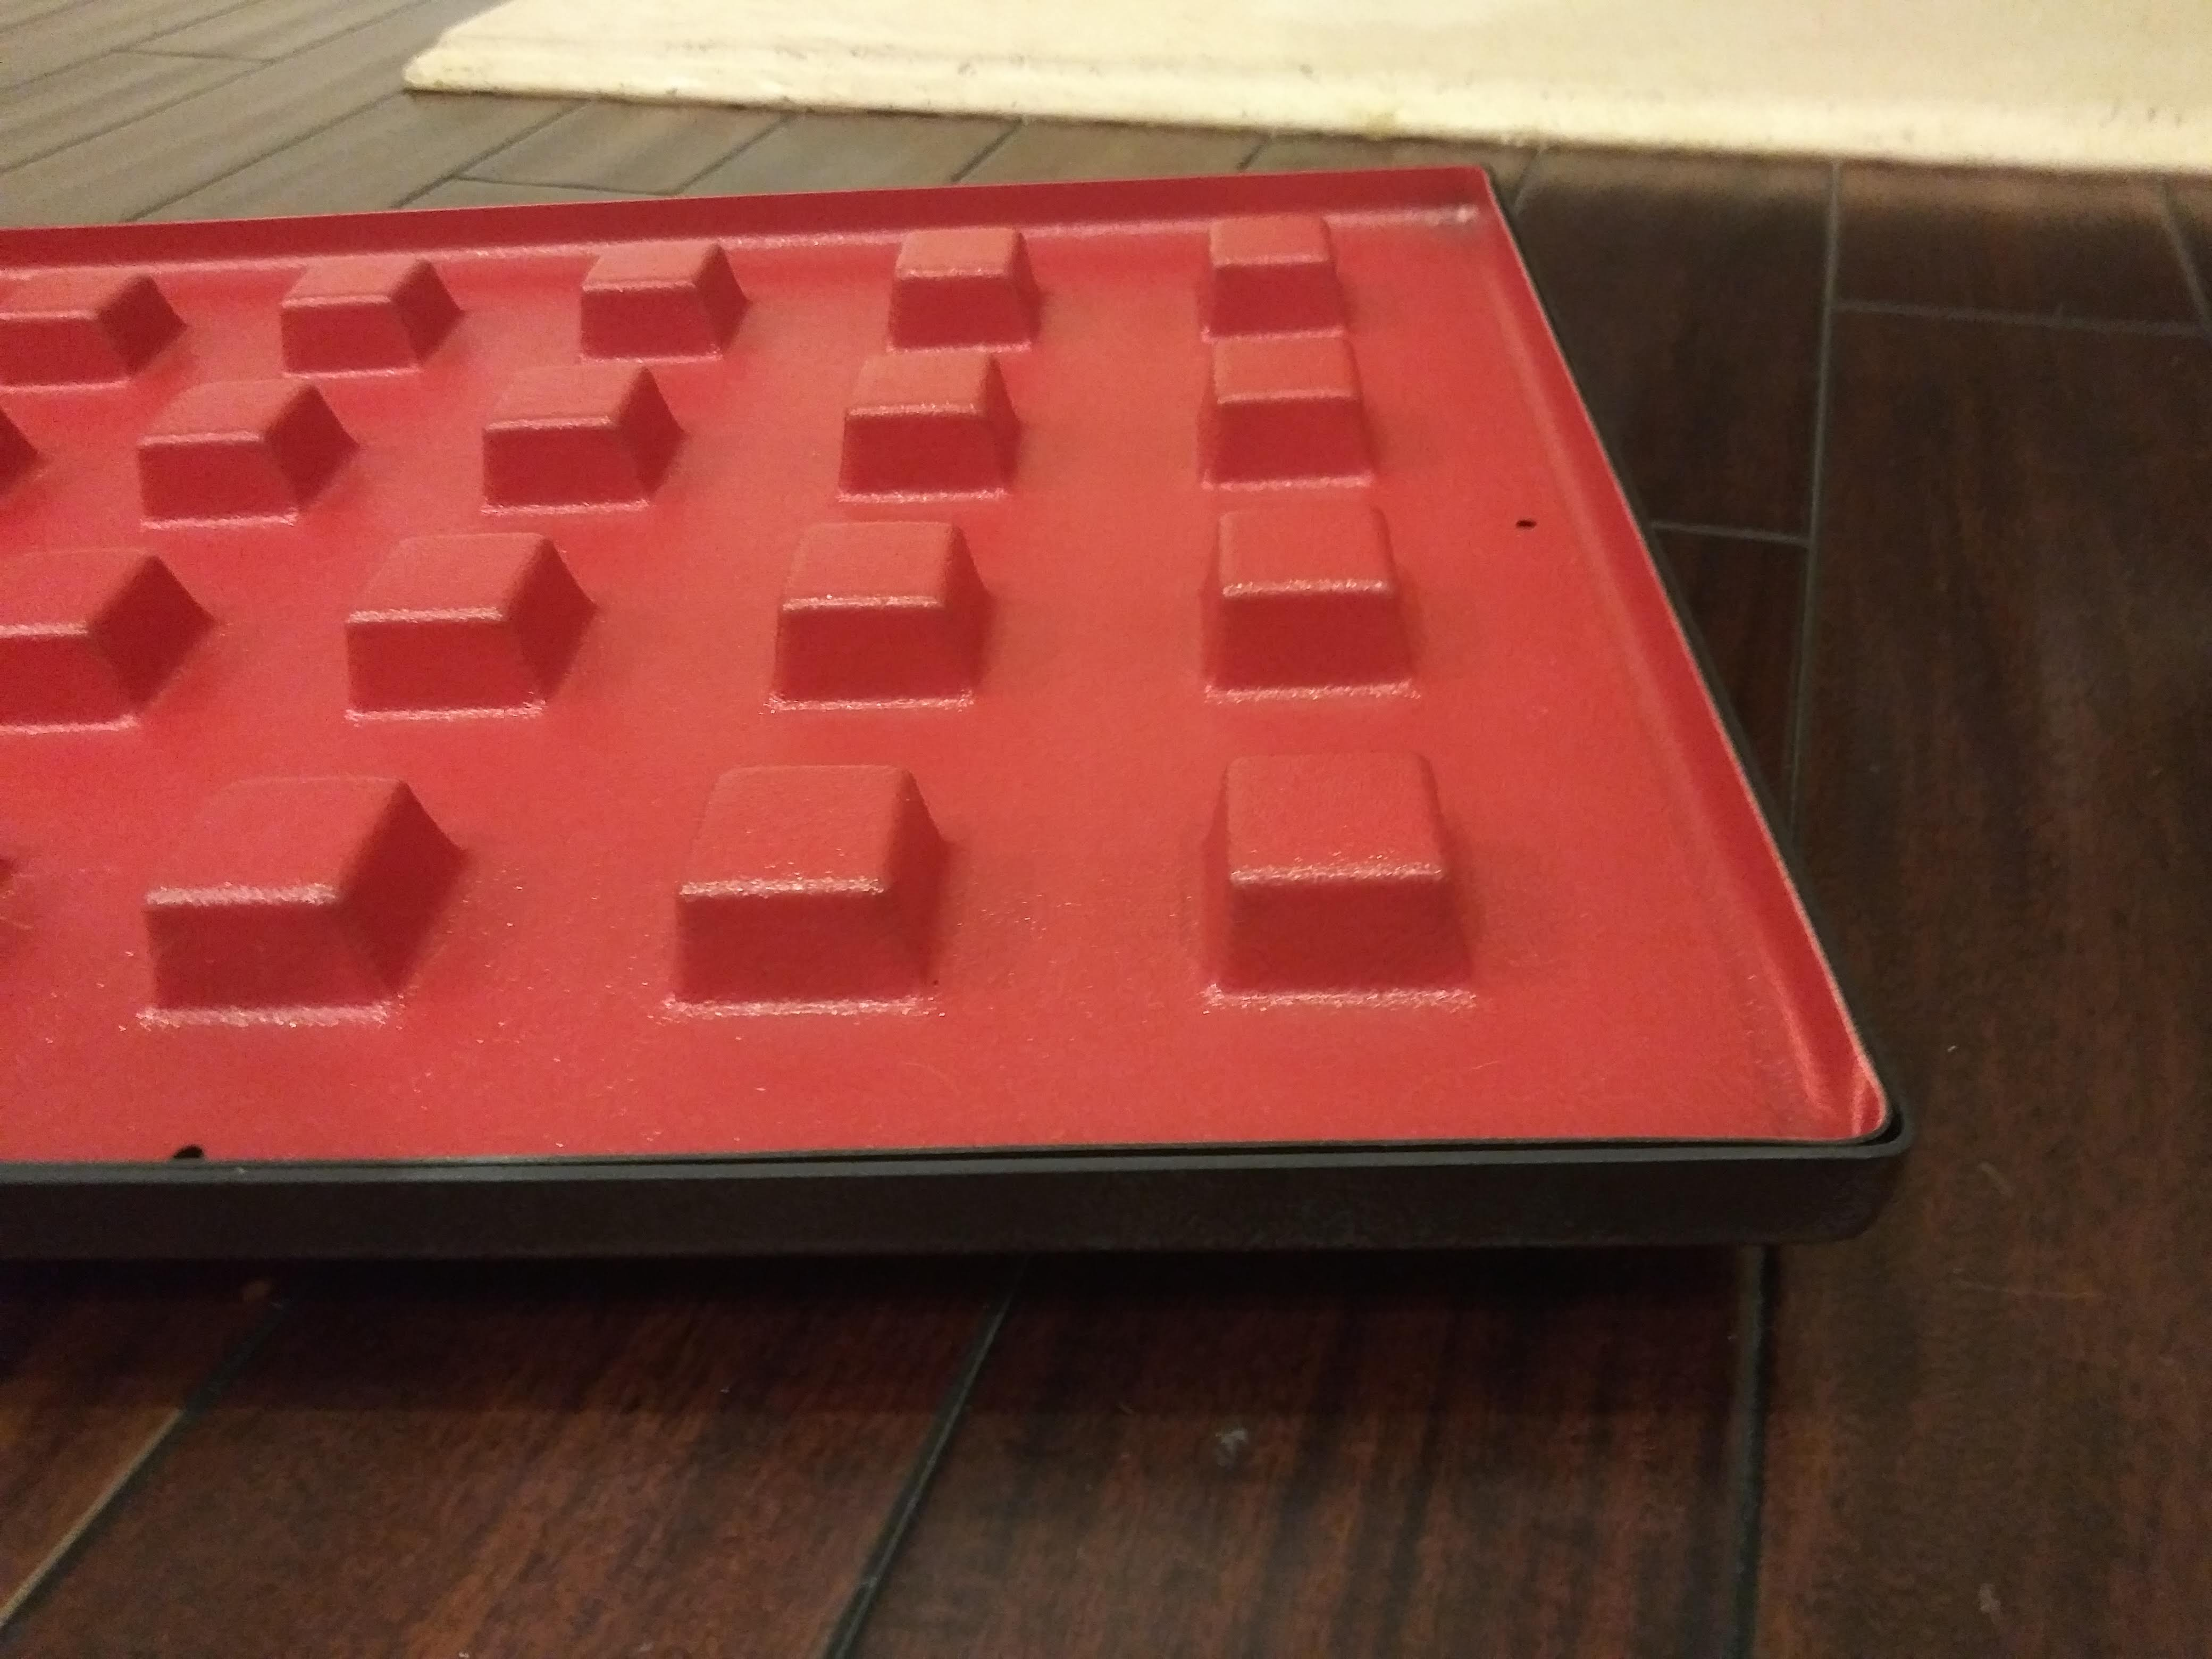red foundation: (24, 185, 1918, 1293)
